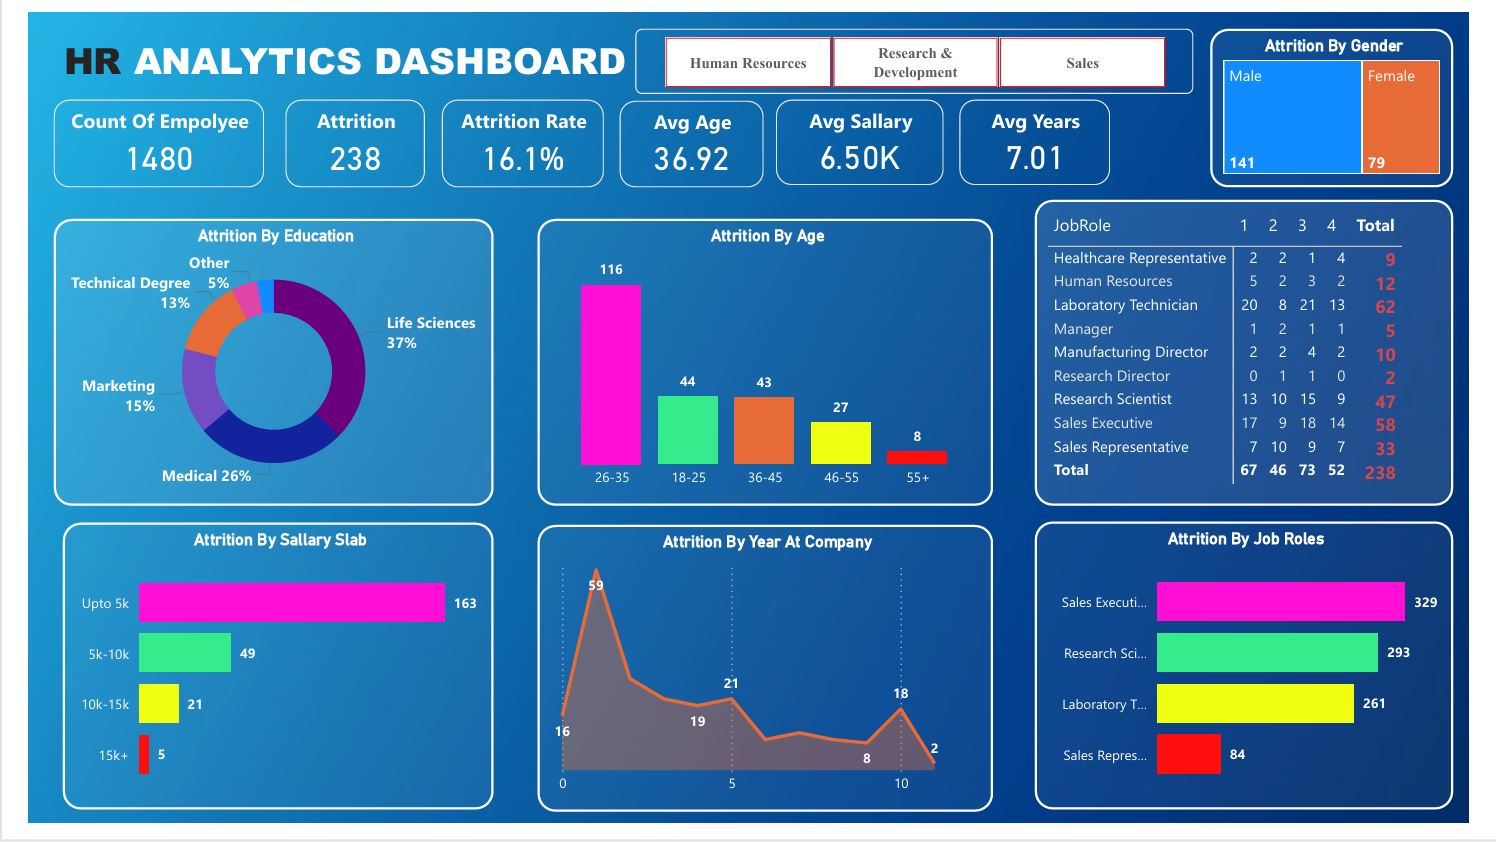

What the dashboard file says about the page in this screenshot:
{"tool":"powerbi","page":{"name":"Page 1","canvas":[1280,720],"ordinal":0},"visuals":[{"type":"card","title":"Count Of Empolyee","fields":{"Values":["CountNonNull(HR_Analytics.EmpID)"]},"box":[21.9,76.6,187.6,78.1],"z":0},{"type":"card","title":"Attrition Rate","fields":{"Values":["HR_Analytics.Attrition_Rate"]},"box":[367.3,76.6,143.8,78.1],"z":1000},{"type":"card","title":"Avg Age","fields":{"Values":["Avg(HR_Analytics.Age)"]},"box":[525.2,78.1,128.2,76.6],"z":2000},{"type":"card","title":"Avg Sallary","fields":{"Values":["Avg(HR_Analytics.MonthlyIncome)"]},"box":[664.3,76.6,148.5,76.6],"z":3000},{"type":"card","title":"Attrition","fields":{"Values":["Sum(HR_Analytics.Attrition Count)"]},"box":[228.2,76.6,123.5,78.1],"z":4000},{"type":"card","title":"Avg Years","fields":{"Values":["Avg(HR_Analytics.YearsAtCompany)"]},"box":[826.8,76.6,134.4,76.6],"z":5000},{"type":"donutChart","title":"Attrition By Education","fields":{"Category":["HR_Analytics.EducationField"],"Y":["Sum(HR_Analytics.Attrition Count)"]},"box":[21.9,182.9,390.7,254.8],"z":6000},{"type":"columnChart","title":"Attrition By Age","fields":{"Category":["HR_Analytics.AgeGroup"],"Y":["Sum(HR_Analytics.Attrition Count)"]},"box":[451.7,182.9,404.8,254.8],"z":7000},{"type":"pivotTable","fields":{"Rows":["HR_Analytics.JobRole"],"Columns":["HR_Analytics.JobSatisfaction"],"Values":["Sum(HR_Analytics.Attrition Count)"]},"box":[894,165.7,372,272],"z":8000},{"type":"barChart","title":"Attrition By Sallary Slab","fields":{"Category":["HR_Analytics.SalarySlab"],"Y":["Sum(HR_Analytics.Attrition Count)"]},"box":[29.7,453.3,382.9,254.8],"z":9000},{"type":"barChart","title":"Attrition By Job Roles","fields":{"Category":["HR_Analytics.JobRole"],"Y":["CountNonNull(HR_Analytics.SalarySlab)"]},"box":[894,451.7,372,256.3],"z":10000},{"type":"areaChart","title":"Attrition By Year At Company","fields":{"Category":["HR_Analytics.YearsAtCompany"],"Y":["Sum(HR_Analytics.Attrition Count)"]},"box":[451.7,454.8,404.8,254.8],"z":11000},{"type":"treemap","title":"Attrition By Gender","fields":{"Group":["HR_Analytics.Gender"],"Values":["Sum(HR_Analytics.Attrition Count)"]},"box":[1050.3,14.1,215.7,140.7],"z":12000},{"type":"slicer","fields":{"Values":["HR_Analytics.Department"]},"box":[539.2,14.1,495.5,57.8],"z":13000},{"type":"textbox","box":[21.9,14.1,517.3,101.6],"z":14000}]}

Visuals, with their boxes in screenshot pixels (x1, y1, x2, y2), scaled from the page's 1280x720 canvas onto the 1496x842 screenshot:
"Count Of Empolyee" card: <region>26, 90, 245, 181</region>
"Attrition Rate" card: <region>429, 90, 597, 181</region>
"Avg Age" card: <region>614, 91, 764, 181</region>
"Avg Sallary" card: <region>776, 90, 950, 179</region>
"Attrition" card: <region>267, 90, 411, 181</region>
"Avg Years" card: <region>966, 90, 1123, 179</region>
"Attrition By Education" donutChart: <region>26, 214, 482, 512</region>
"Attrition By Age" columnChart: <region>528, 214, 1001, 512</region>
pivotTable - HR_Analytics.JobRole x HR_Analytics.JobSatisfaction: <region>1045, 194, 1480, 512</region>
"Attrition By Sallary Slab" barChart: <region>35, 530, 482, 828</region>
"Attrition By Job Roles" barChart: <region>1045, 528, 1480, 828</region>
"Attrition By Year At Company" areaChart: <region>528, 532, 1001, 830</region>
"Attrition By Gender" treemap: <region>1228, 16, 1480, 181</region>
slicer - HR_Analytics.Department: <region>630, 16, 1209, 84</region>
textbox: <region>26, 16, 630, 135</region>
